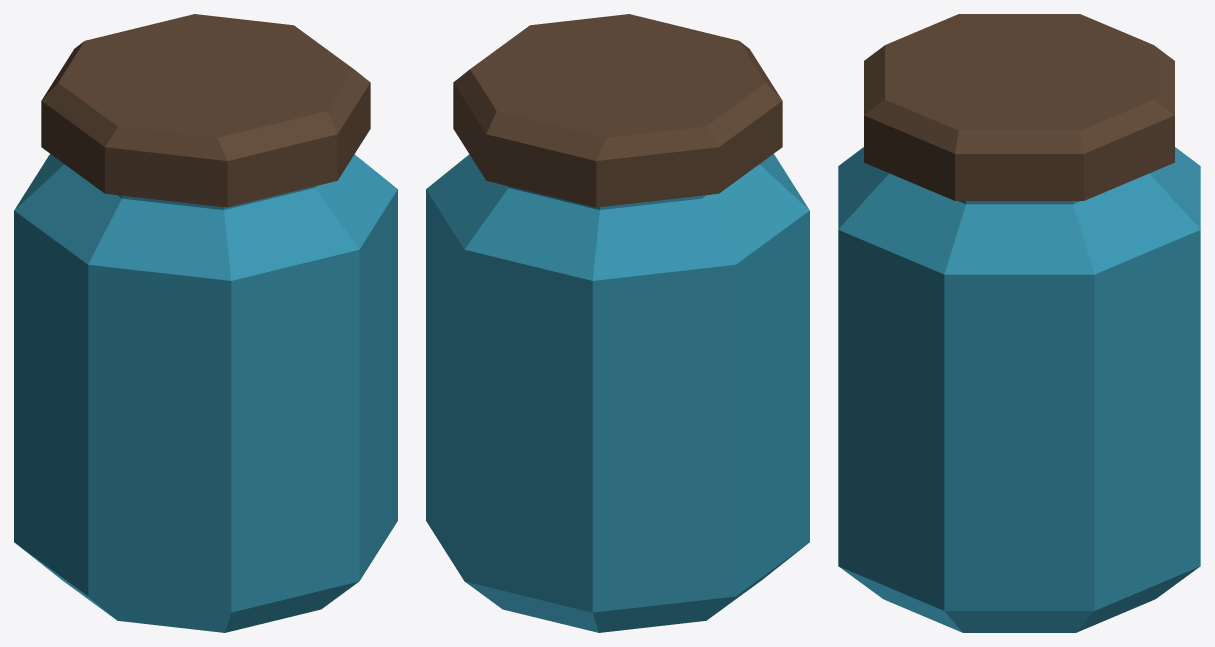
File: SM_Jar.fbx
The picture shows the model from 3 angles, left to right: view 1: azimuth 30°, elevation 25°; view 2: azimuth 150°, elevation 25°; view 3: azimuth 270°, elevation 25°; orthographic projection.
Visible parts, largest first — view 1: SM_Jar, SM_Jar_Lid; view 2: SM_Jar, SM_Jar_Lid; view 3: SM_Jar, SM_Jar_Lid.
Boxes of the visible parts, x1,y1,x2,y2 form: SM_Jar: (14,154,397,632); SM_Jar_Lid: (41,14,370,207); SM_Jar: (426,154,809,632); SM_Jar_Lid: (453,14,782,207); SM_Jar: (838,147,1200,632); SM_Jar_Lid: (864,14,1174,200).
Bounding box in the file's own units: 16.61 × 25.43 × 16.61.
